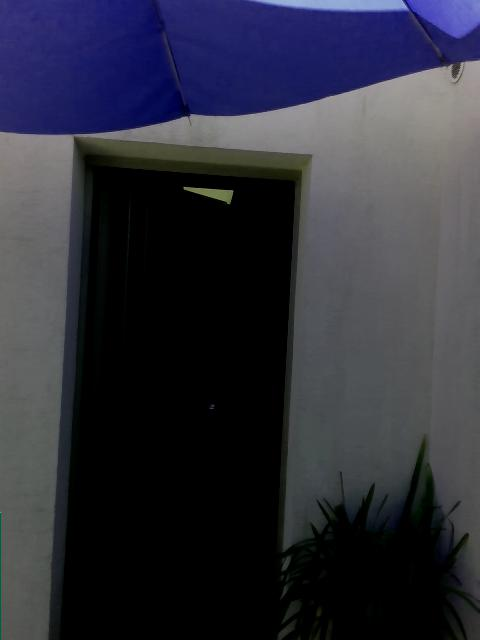semi_door: (50, 134, 309, 639)
